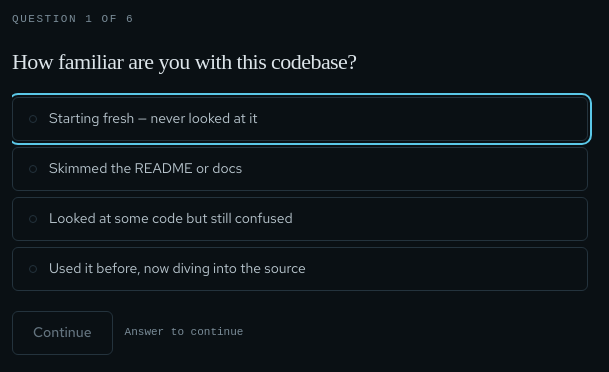
Test: choosing an option › Continue is dead until something is chosen, and says why
Check: the heading "How familiar are you with this codebase?" is shown, box [12,49,356,74]
Check: the button "Continue" is disabled, box [12,311,113,355]
Click the radio button labelled "Starting fresh — never looked at it" at (153, 118), box [12,97,588,141]
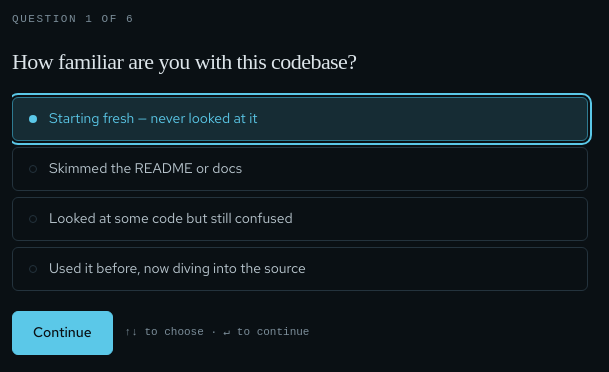
Check: the button "Continue" is enabled, box [12,311,113,355]
Check: the text "↑↓ to choose · ↵ to continue" is shown, box [125,325,310,341]
